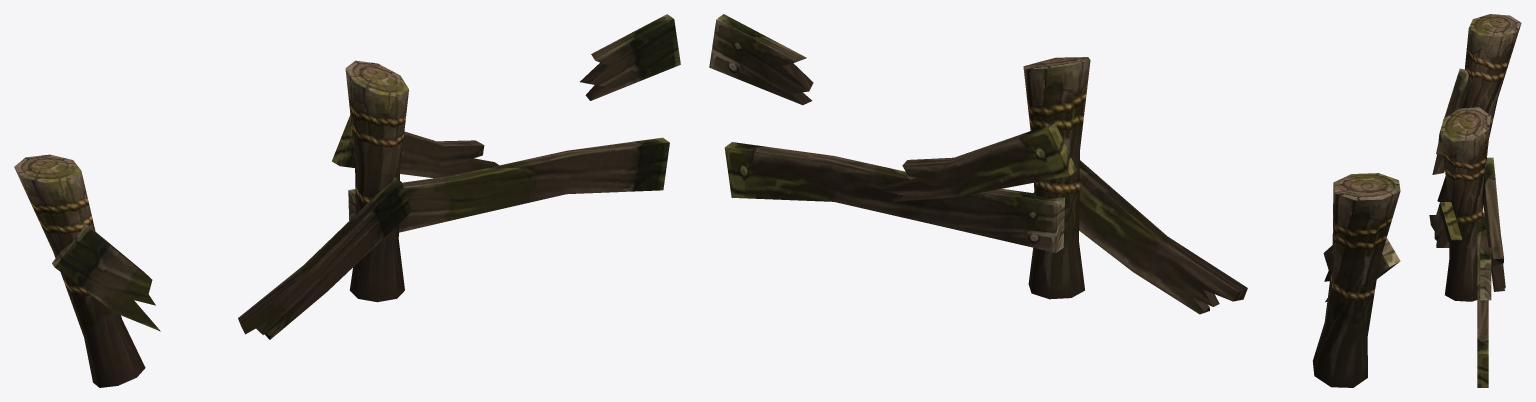
Rendered from lumina_object_fencesmall01_04.FBX.
The picture shows the model from 3 angles, left to right: view 1: azimuth 30°, elevation 25°; view 2: azimuth 150°, elevation 25°; view 3: azimuth 270°, elevation 25°; orthographic projection. The views are drawn at different scales.
Parts seen in each view (by area): view 1: lumina_object_fencesmall01_04; view 2: lumina_object_fencesmall01_04; view 3: lumina_object_fencesmall01_04.
Part boxes in pixels (left/top/right/bottom): lumina_object_fencesmall01_04: left=14, top=14, right=680, bottom=387; lumina_object_fencesmall01_04: left=709, top=14, right=1400, bottom=387; lumina_object_fencesmall01_04: left=1429, top=14, right=1521, bottom=387.
Bounding box in the file's own units: 4.59 × 1.66 × 0.7059.
